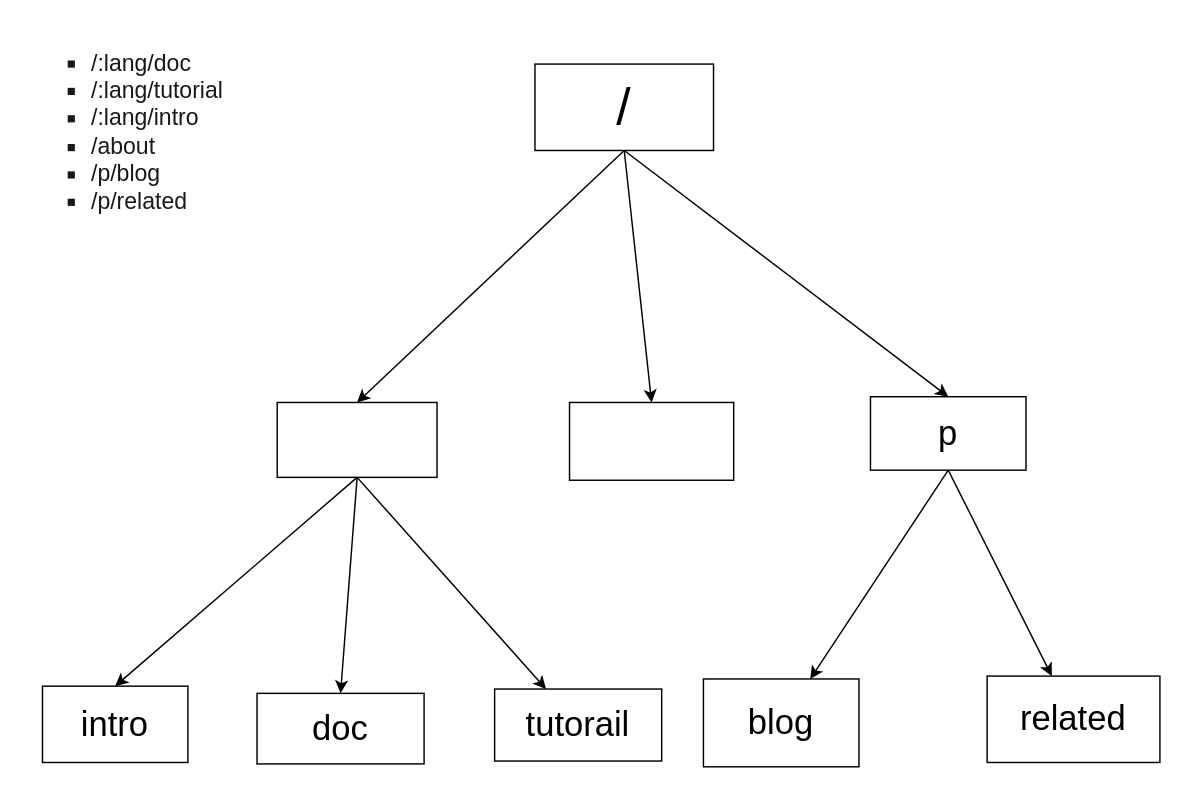
Image size: 1185x792. Some labels were removed from this diagram. The shapes that lost their labels are listed below. From the top down, each one's centre as x and y in pixels, then its label:
At pixel 356 439: "lang".
At pixel 651 440: "ablout".
